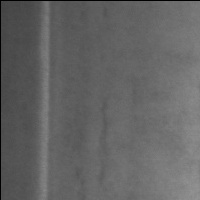inclusion: (93, 95, 116, 183)
scratches: (37, 2, 53, 200)
